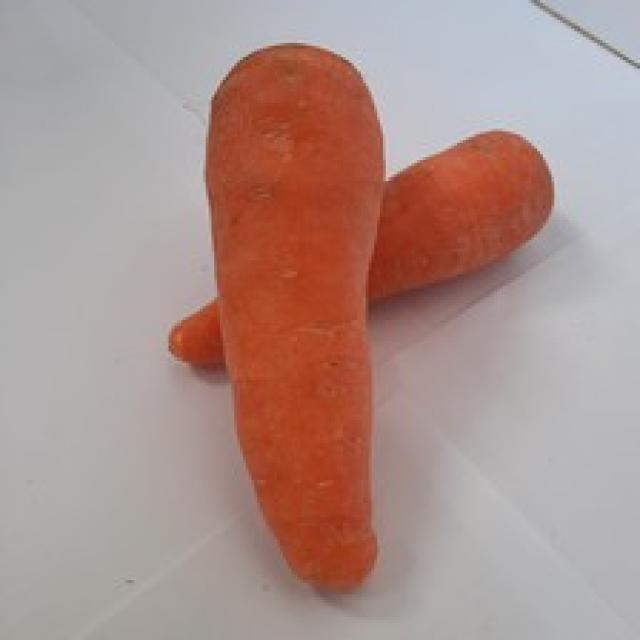Fresh_Carrot: (143, 92, 597, 418), (210, 47, 387, 594)
